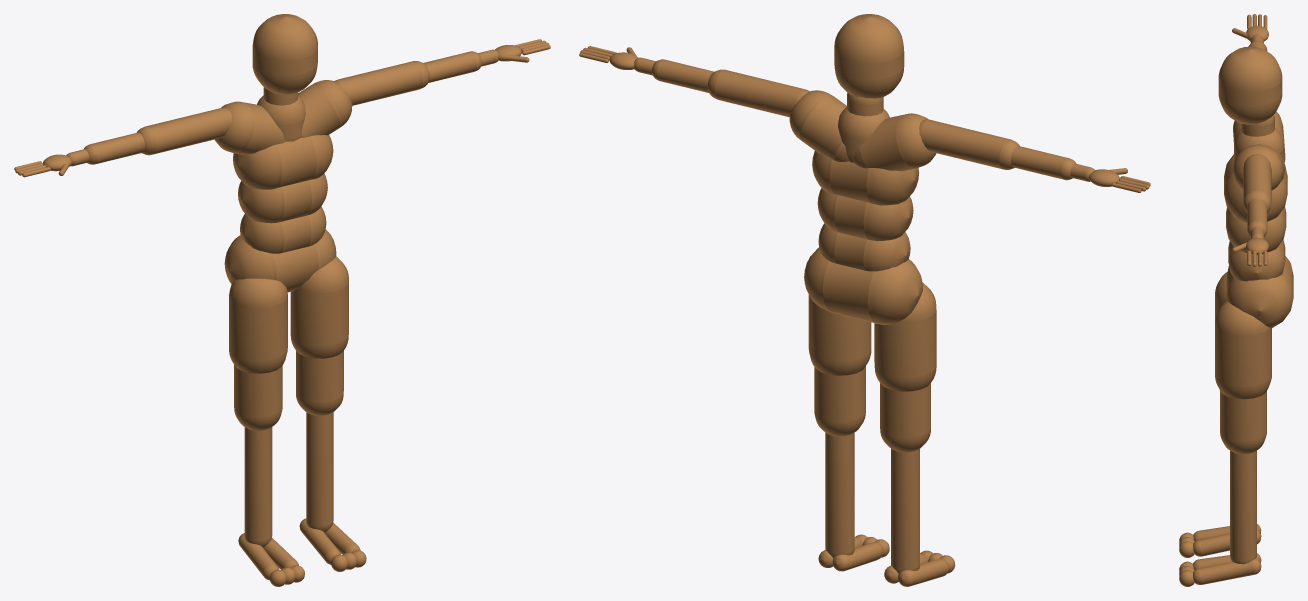
File: humanoid_CMU_scaling.fbx
3 views of the same model, side by side, from view 1: azimuth 30°, elevation 25°; view 2: azimuth 150°, elevation 25°; view 3: azimuth 270°, elevation 25° (orthographic). The views are drawn at different scales.
Parts seen in each view (by area): view 1: rfemur_upper, lfemur_upper, head, thorax, root_geom, rtibia, ltibia, upperback, rfemur, lfemur, rhumerus, lowerback (+8 smaller); view 2: root_geom, head, rfemur_upper, lfemur_upper, ltibia, thorax, rtibia, upperback, rclavicle, lfemur, rfemur, rhumerus (+8 smaller); view 3: lfemur_upper, head, ltibia, root_geom, lfemur, thorax, lowerback, lhumerus, upperback, lclavicle, lfoot_ch, lowerneck (+11 smaller).
Part boxes in pixels (x1,y1,x2,y2): rfemur_upper: (229,278,287,373); lfemur_upper: (290,256,348,358); head: (252,14,317,94); thorax: (233,135,333,189); root_geom: (224,229,336,292); rtibia: (244,427,272,547); ltibia: (306,412,333,532); upperback: (238,173,327,223); rfemur: (234,364,282,430); lfemur: (296,351,343,415); rhumerus: (136,107,232,155); lowerback: (240,206,326,253); root_geom: (804,247,922,324); head: (834,14,904,98); rfemur_upper: (874,283,936,391); lfemur_upper: (808,294,871,375); ltibia: (825,432,854,557); thorax: (812,151,919,205); rtibia: (891,449,919,573); upperback: (817,188,913,241); rclavicle: (853,113,936,171); lfemur: (814,366,865,436); rfemur: (880,383,930,452); rhumerus: (919,119,1019,169); lfemur_upper: (1215,301,1271,399); head: (1218,46,1282,124); ltibia: (1230,450,1256,564); root_geom: (1226,256,1293,328); lfemur: (1220,390,1266,454); thorax: (1224,154,1287,222); lowerback: (1228,239,1285,281); lhumerus: (1243,154,1271,212); upperback: (1226,207,1286,252); lclavicle: (1233,144,1285,190); lfoot_ch: (1193,558,1261,584); lowerneck: (1234,127,1284,162).
Bounding box in the file's own units: 176 × 170 × 34.08.
